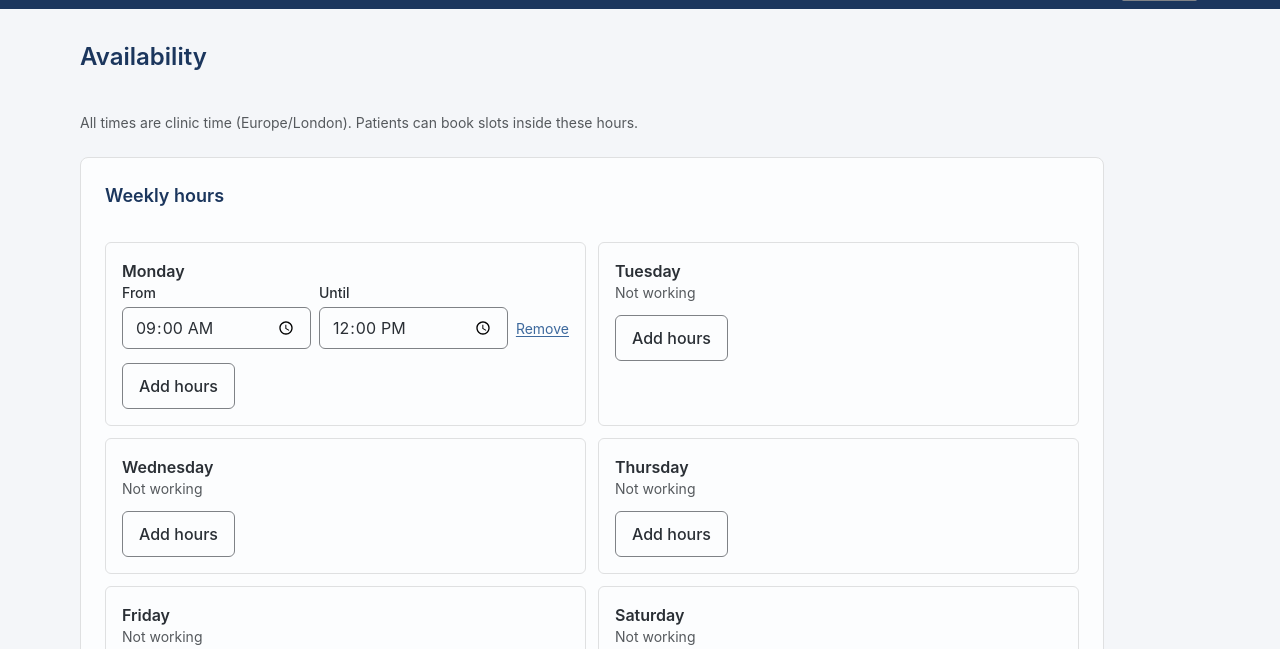
Test: availability page (doctor) › catches overlapping hours before sending
Check: the time field named "Monday hours 1 from" is shown, box [122, 307, 311, 349]
Click the button named "Add hours on Monday".
click(178, 386)  # box [122, 363, 235, 409]
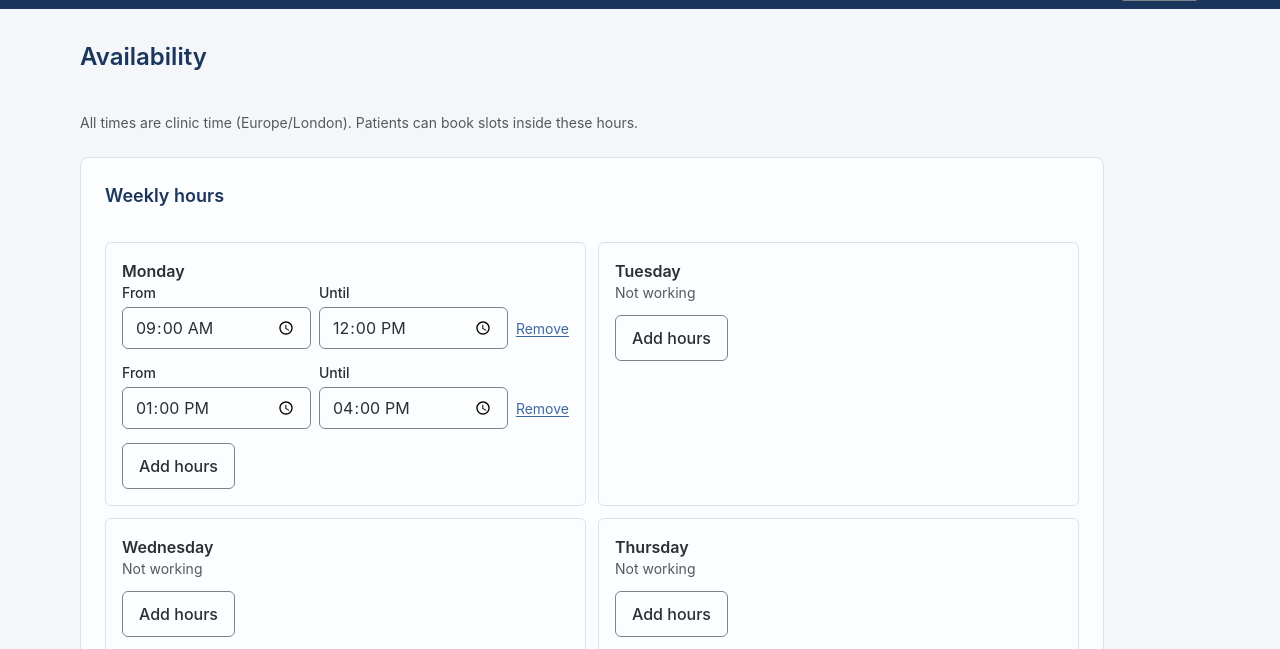
Check: the time field named "Monday hours 2 from" holds "13:00"
Replace the text in the time field named "Monday hours 2 from" with "11:00" at [216, 408], box [122, 387, 311, 429]
(page scrolled)
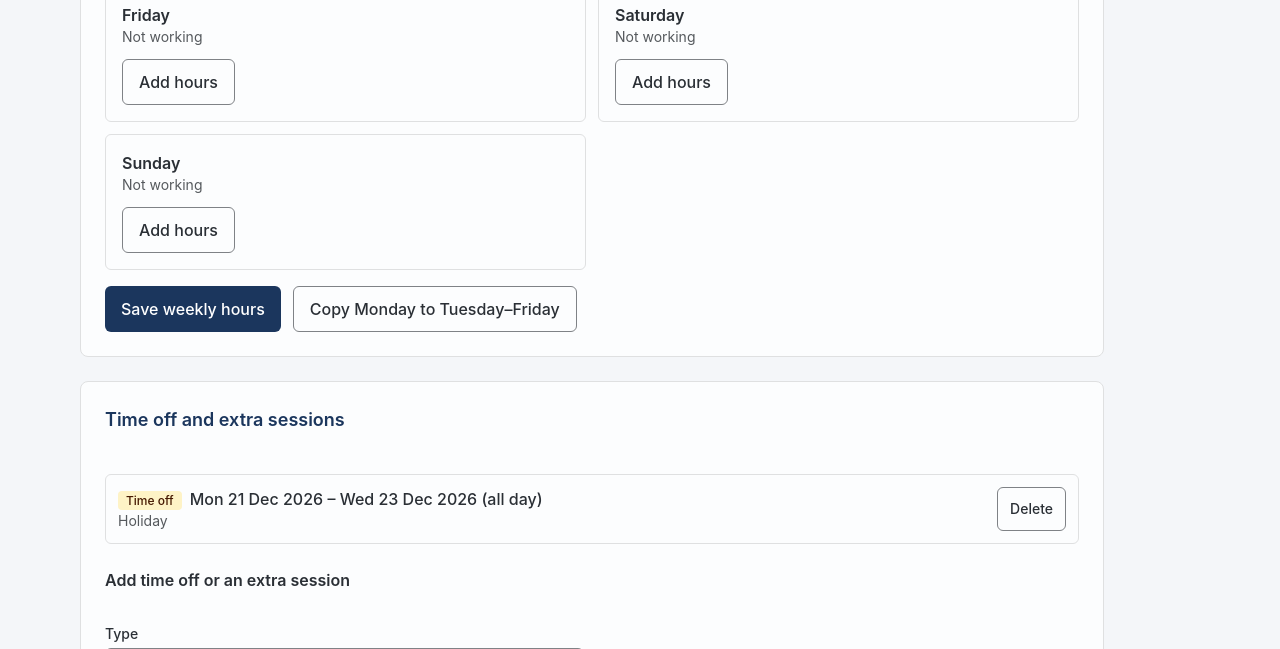
Click the button "Save weekly hours".
click(193, 309)  # box [105, 286, 281, 332]
(page scrolled)
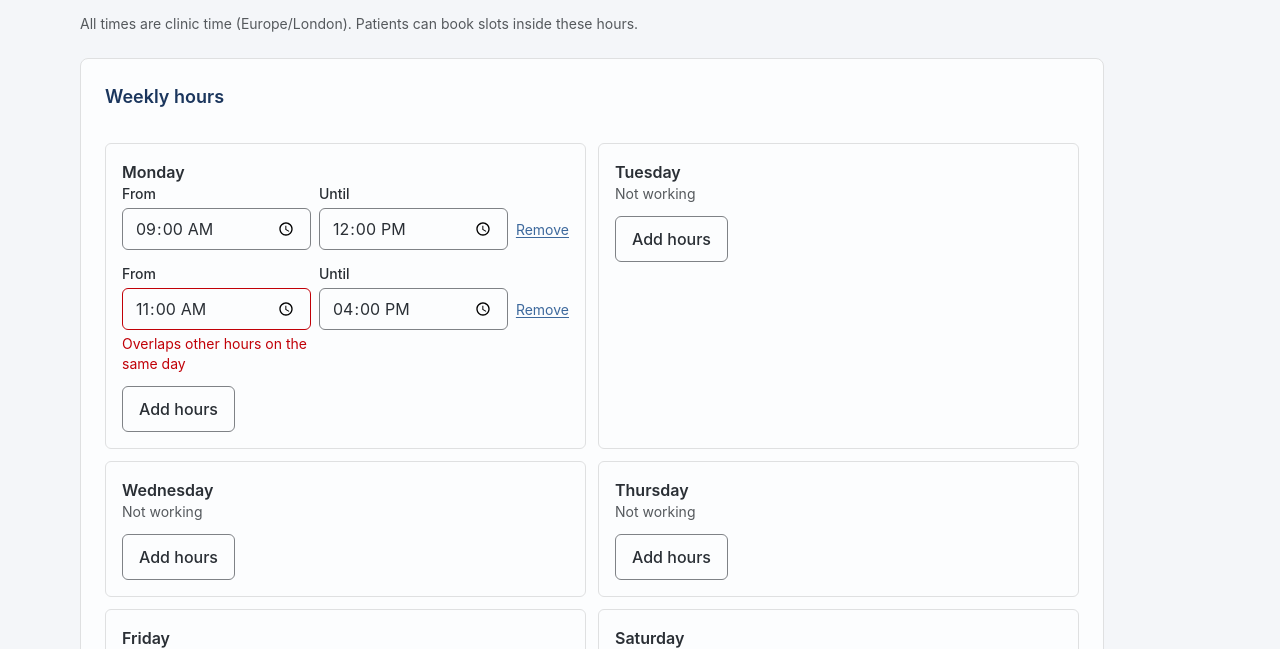
Check: the text "Overlaps other hours on the same day" is shown, box [122, 334, 311, 374]
